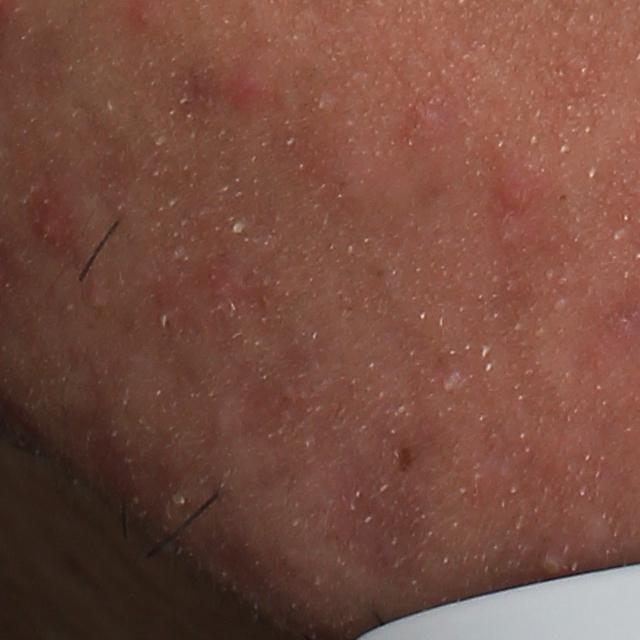papule: (27, 193, 71, 257), (397, 92, 457, 137), (229, 61, 276, 107), (494, 175, 536, 212)
